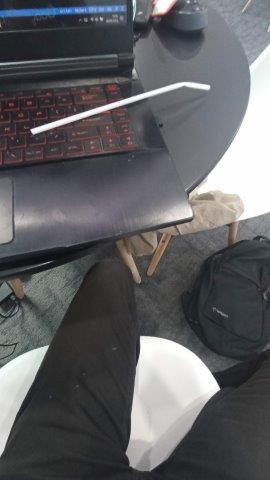sedotan: (31, 82, 210, 135)
